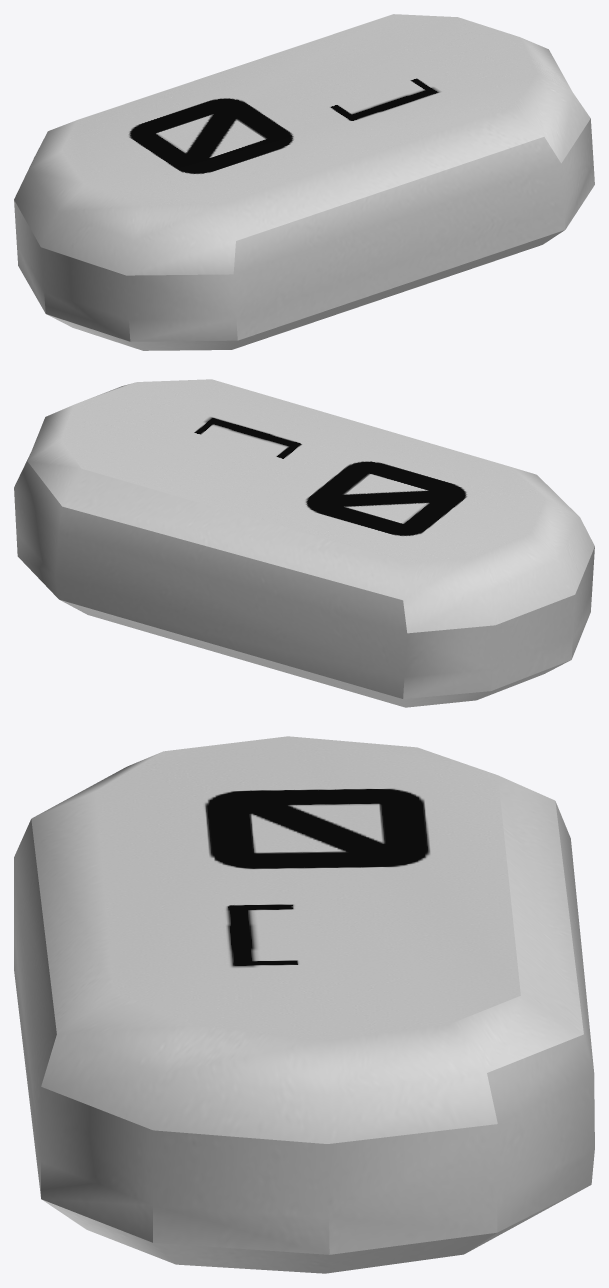
The model's file is space0_button.glb.
3 views of the same model, one above another, from view 1: azimuth 30°, elevation 25°; view 2: azimuth 150°, elevation 25°; view 3: azimuth 270°, elevation 25° (orthographic). The views are drawn at different scales.
Visible parts, largest first — view 1: space0_button; view 2: space0_button; view 3: space0_button.
Part boxes in pixels (x1,y1,x2,y2): space0_button: (14, 14, 594, 350); space0_button: (14, 379, 594, 707); space0_button: (14, 736, 594, 1273).
Bounding box in the file's own units: 0.00276 × 0.000842 × 0.00162.
Materials: 1 (1 with a texture image).
